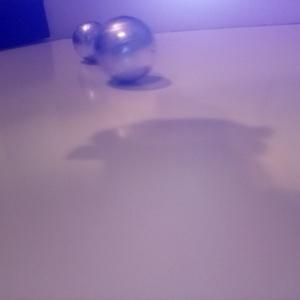alive_ball: (94, 16, 156, 80), (73, 20, 110, 61)
